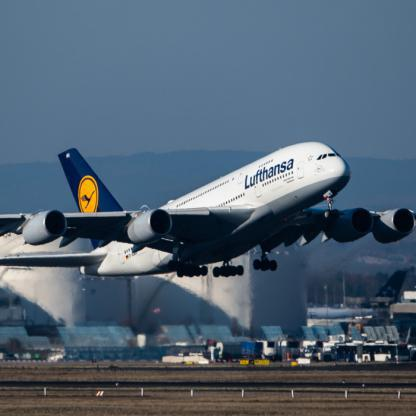CIV_Plane: (2, 68, 416, 412), (2, 137, 416, 283)
